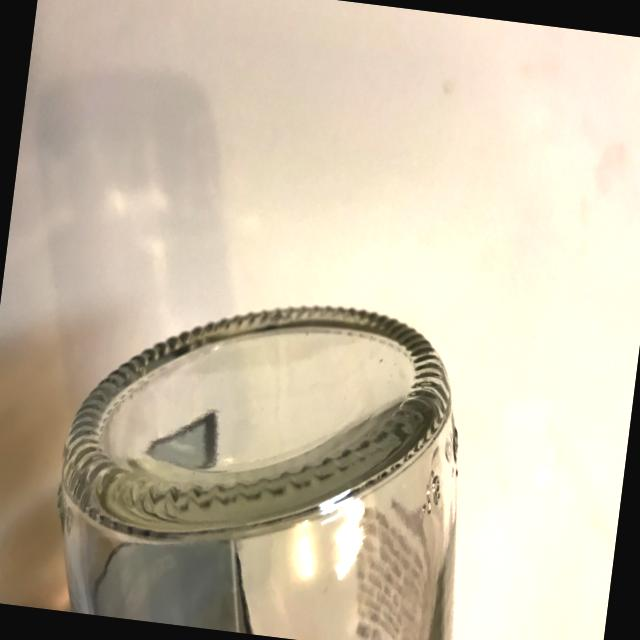Glass: (35, 260, 502, 640)
